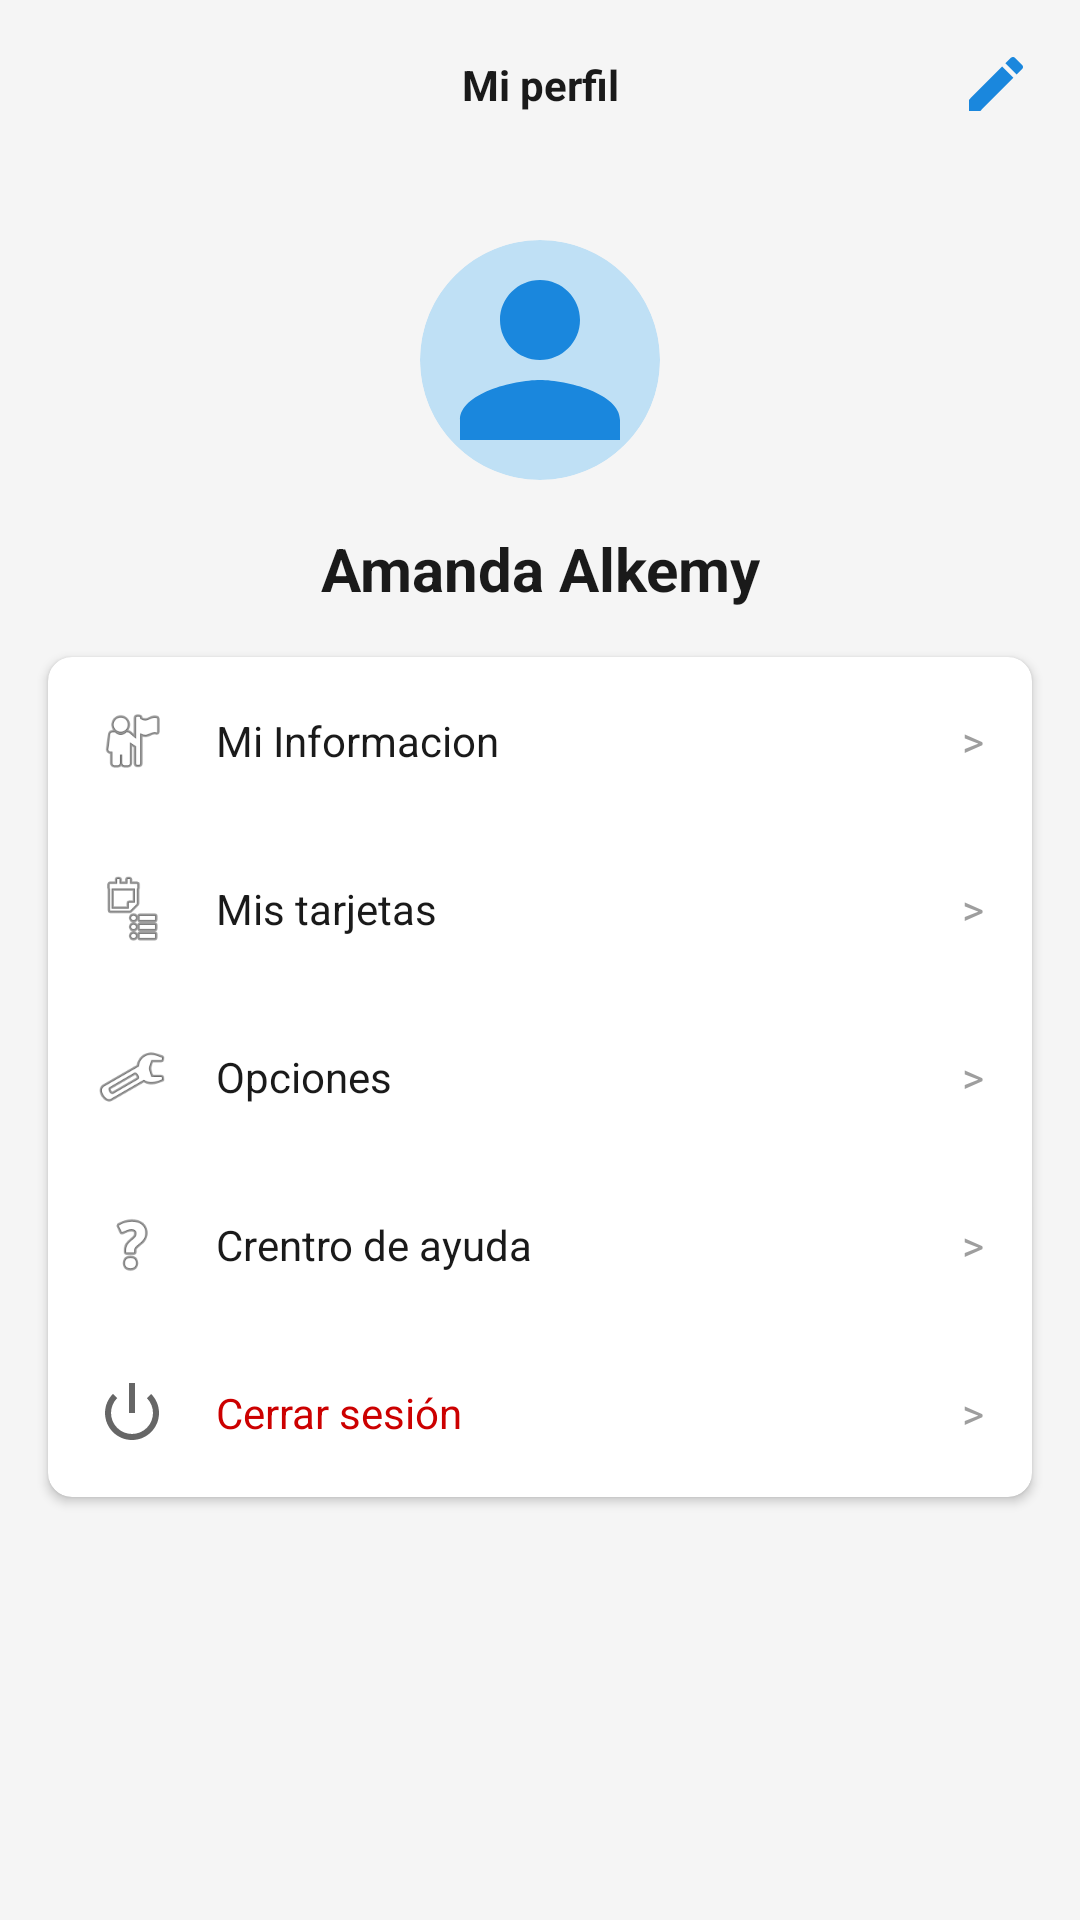

Icon click points for this 1080px x 1920px phone screenshot, format (x,y):
agenda: (132,909)
edit: (996,84)
help: (132,1245)
lock power off: (132,1411)
manage: (131,1077)
